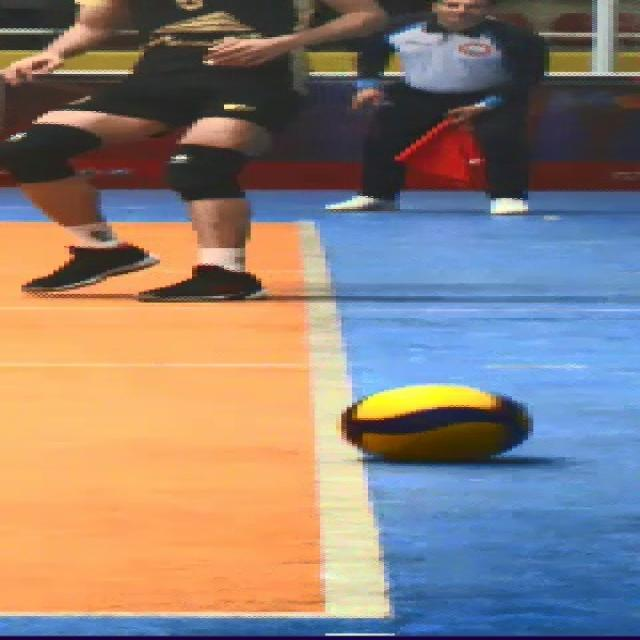Volleyball: (342, 385, 536, 460)
